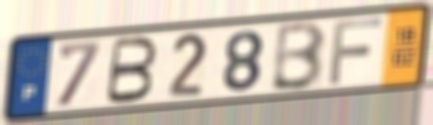2: (166, 31, 210, 99)
7: (55, 37, 103, 110)
8: (223, 29, 265, 93)
B: (268, 19, 328, 93), (102, 35, 160, 107)
F: (326, 15, 385, 87)
